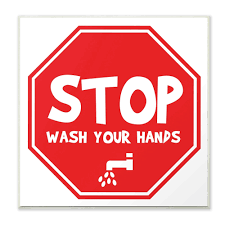Stop: (24, 20, 220, 205)
